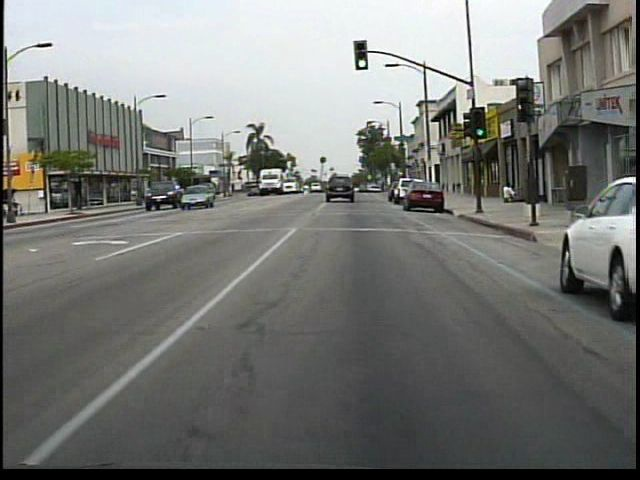person: (496, 180, 514, 205)
